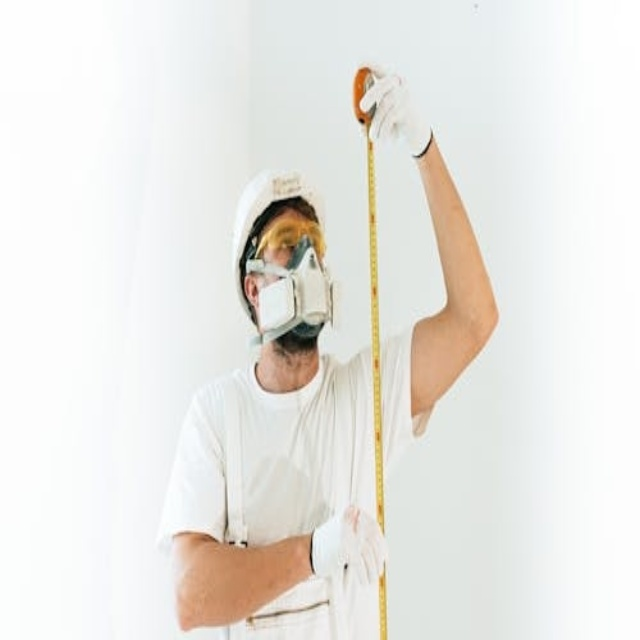Gafas: (250, 215, 325, 264)
Guantes: (308, 494, 390, 598), (358, 65, 431, 158)
Mascara: (253, 256, 342, 348)
